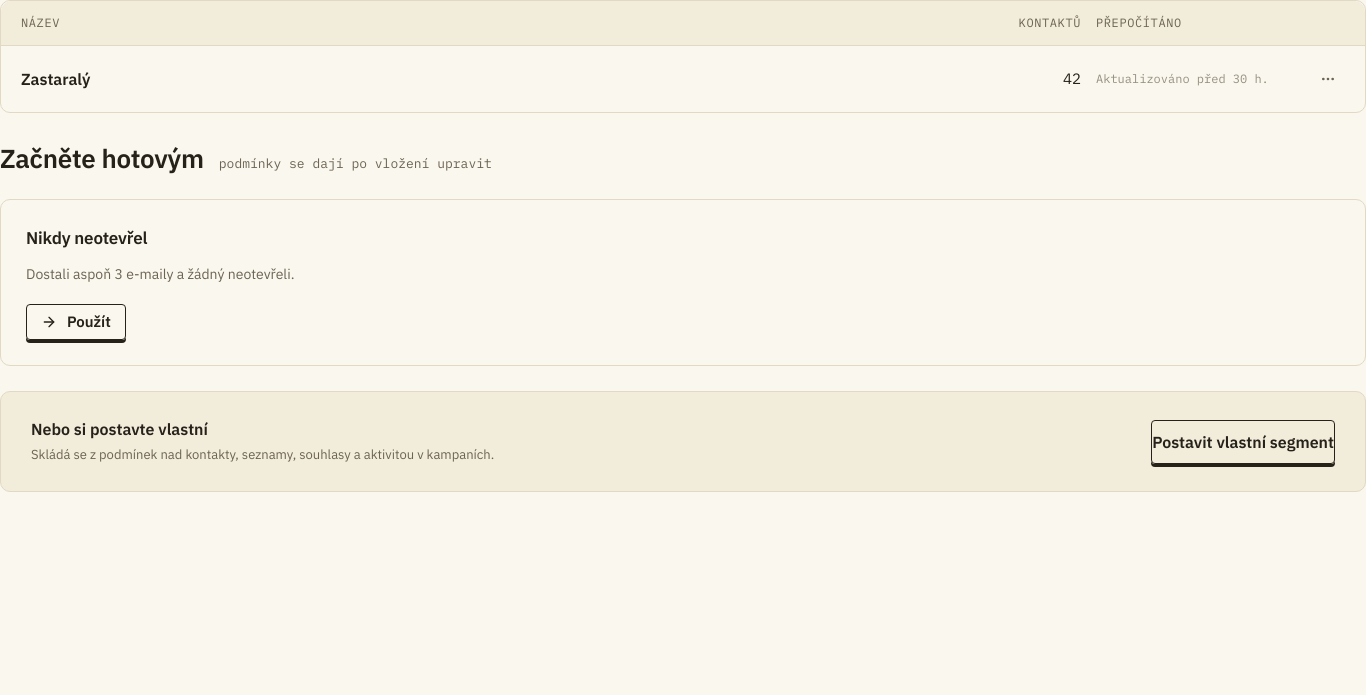
it: nabídka „…" v řádku segmentu › ruční segment navíc řekne, že s ním zmizí soupis členů
Click the button named "Další akce se segmentem". click: (1328, 79)
box: [1311,62,1345,96]
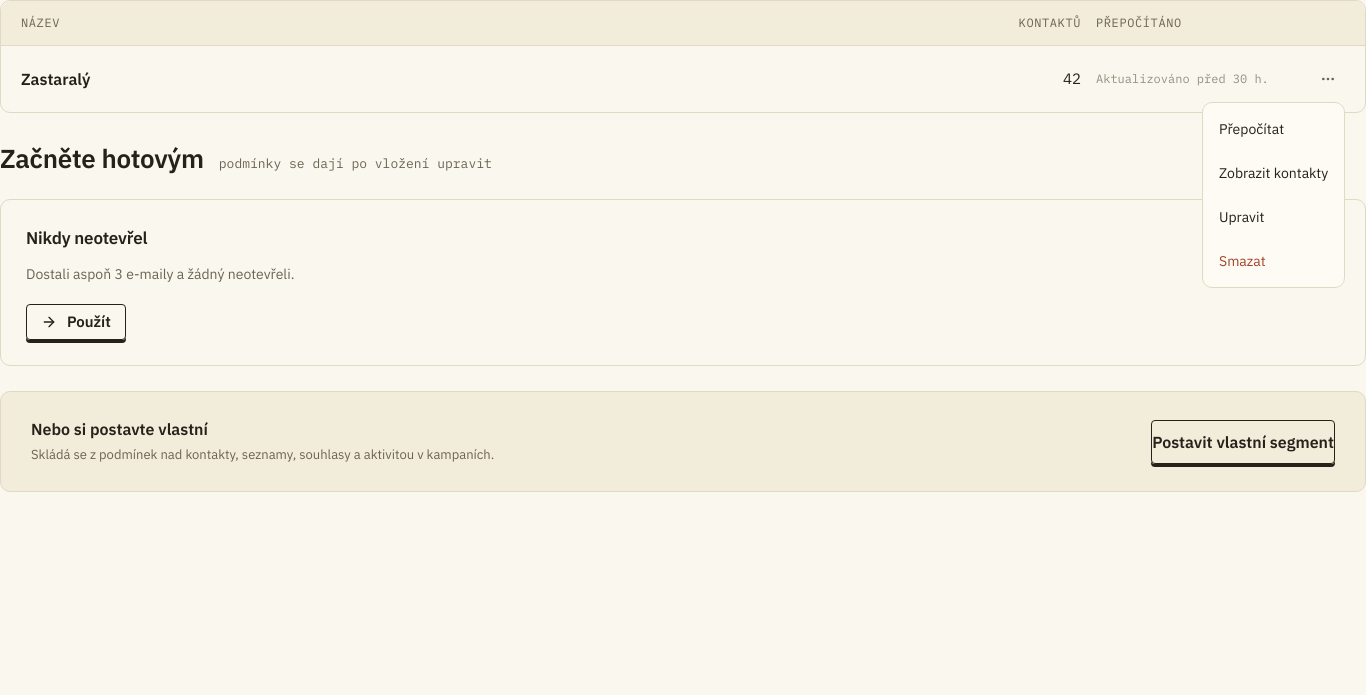
Click the menu item "Smazat". click: (1242, 261)
box: [1219,252,1266,270]
(page scrolled)
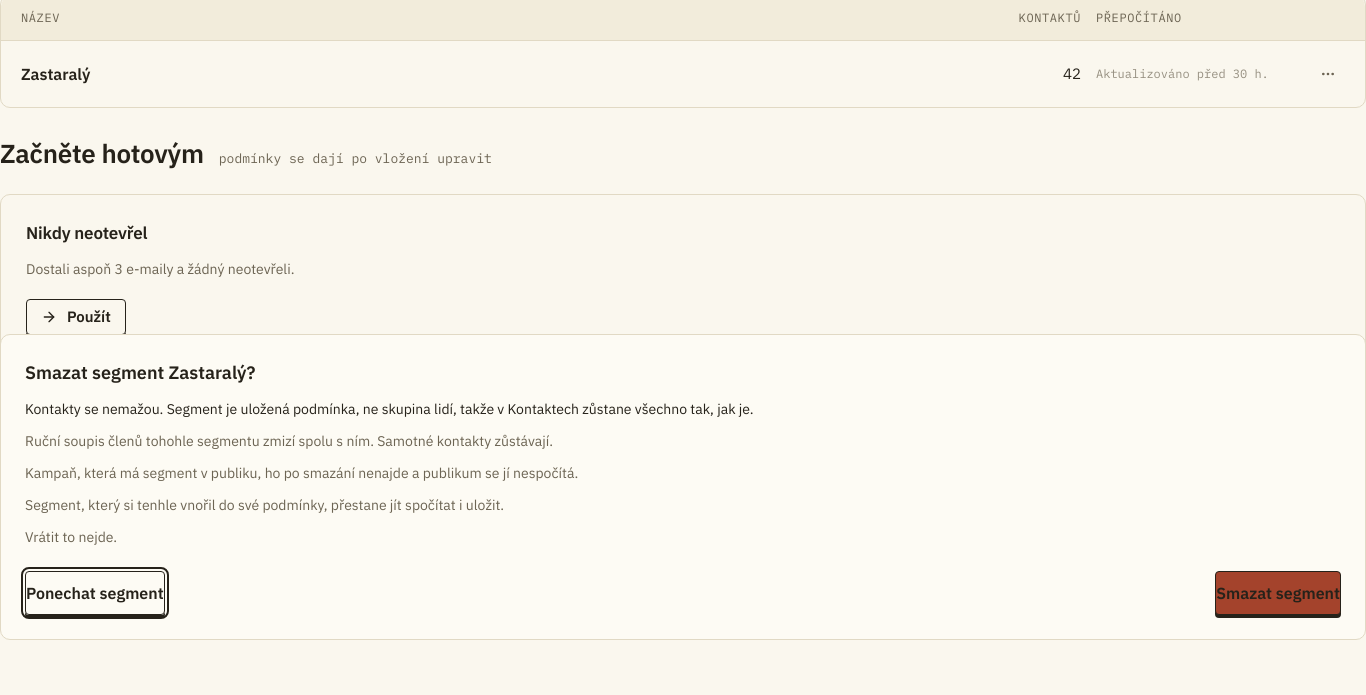
Result: the text "Ruční soupis členů" is shown at [25,432,553,450]
